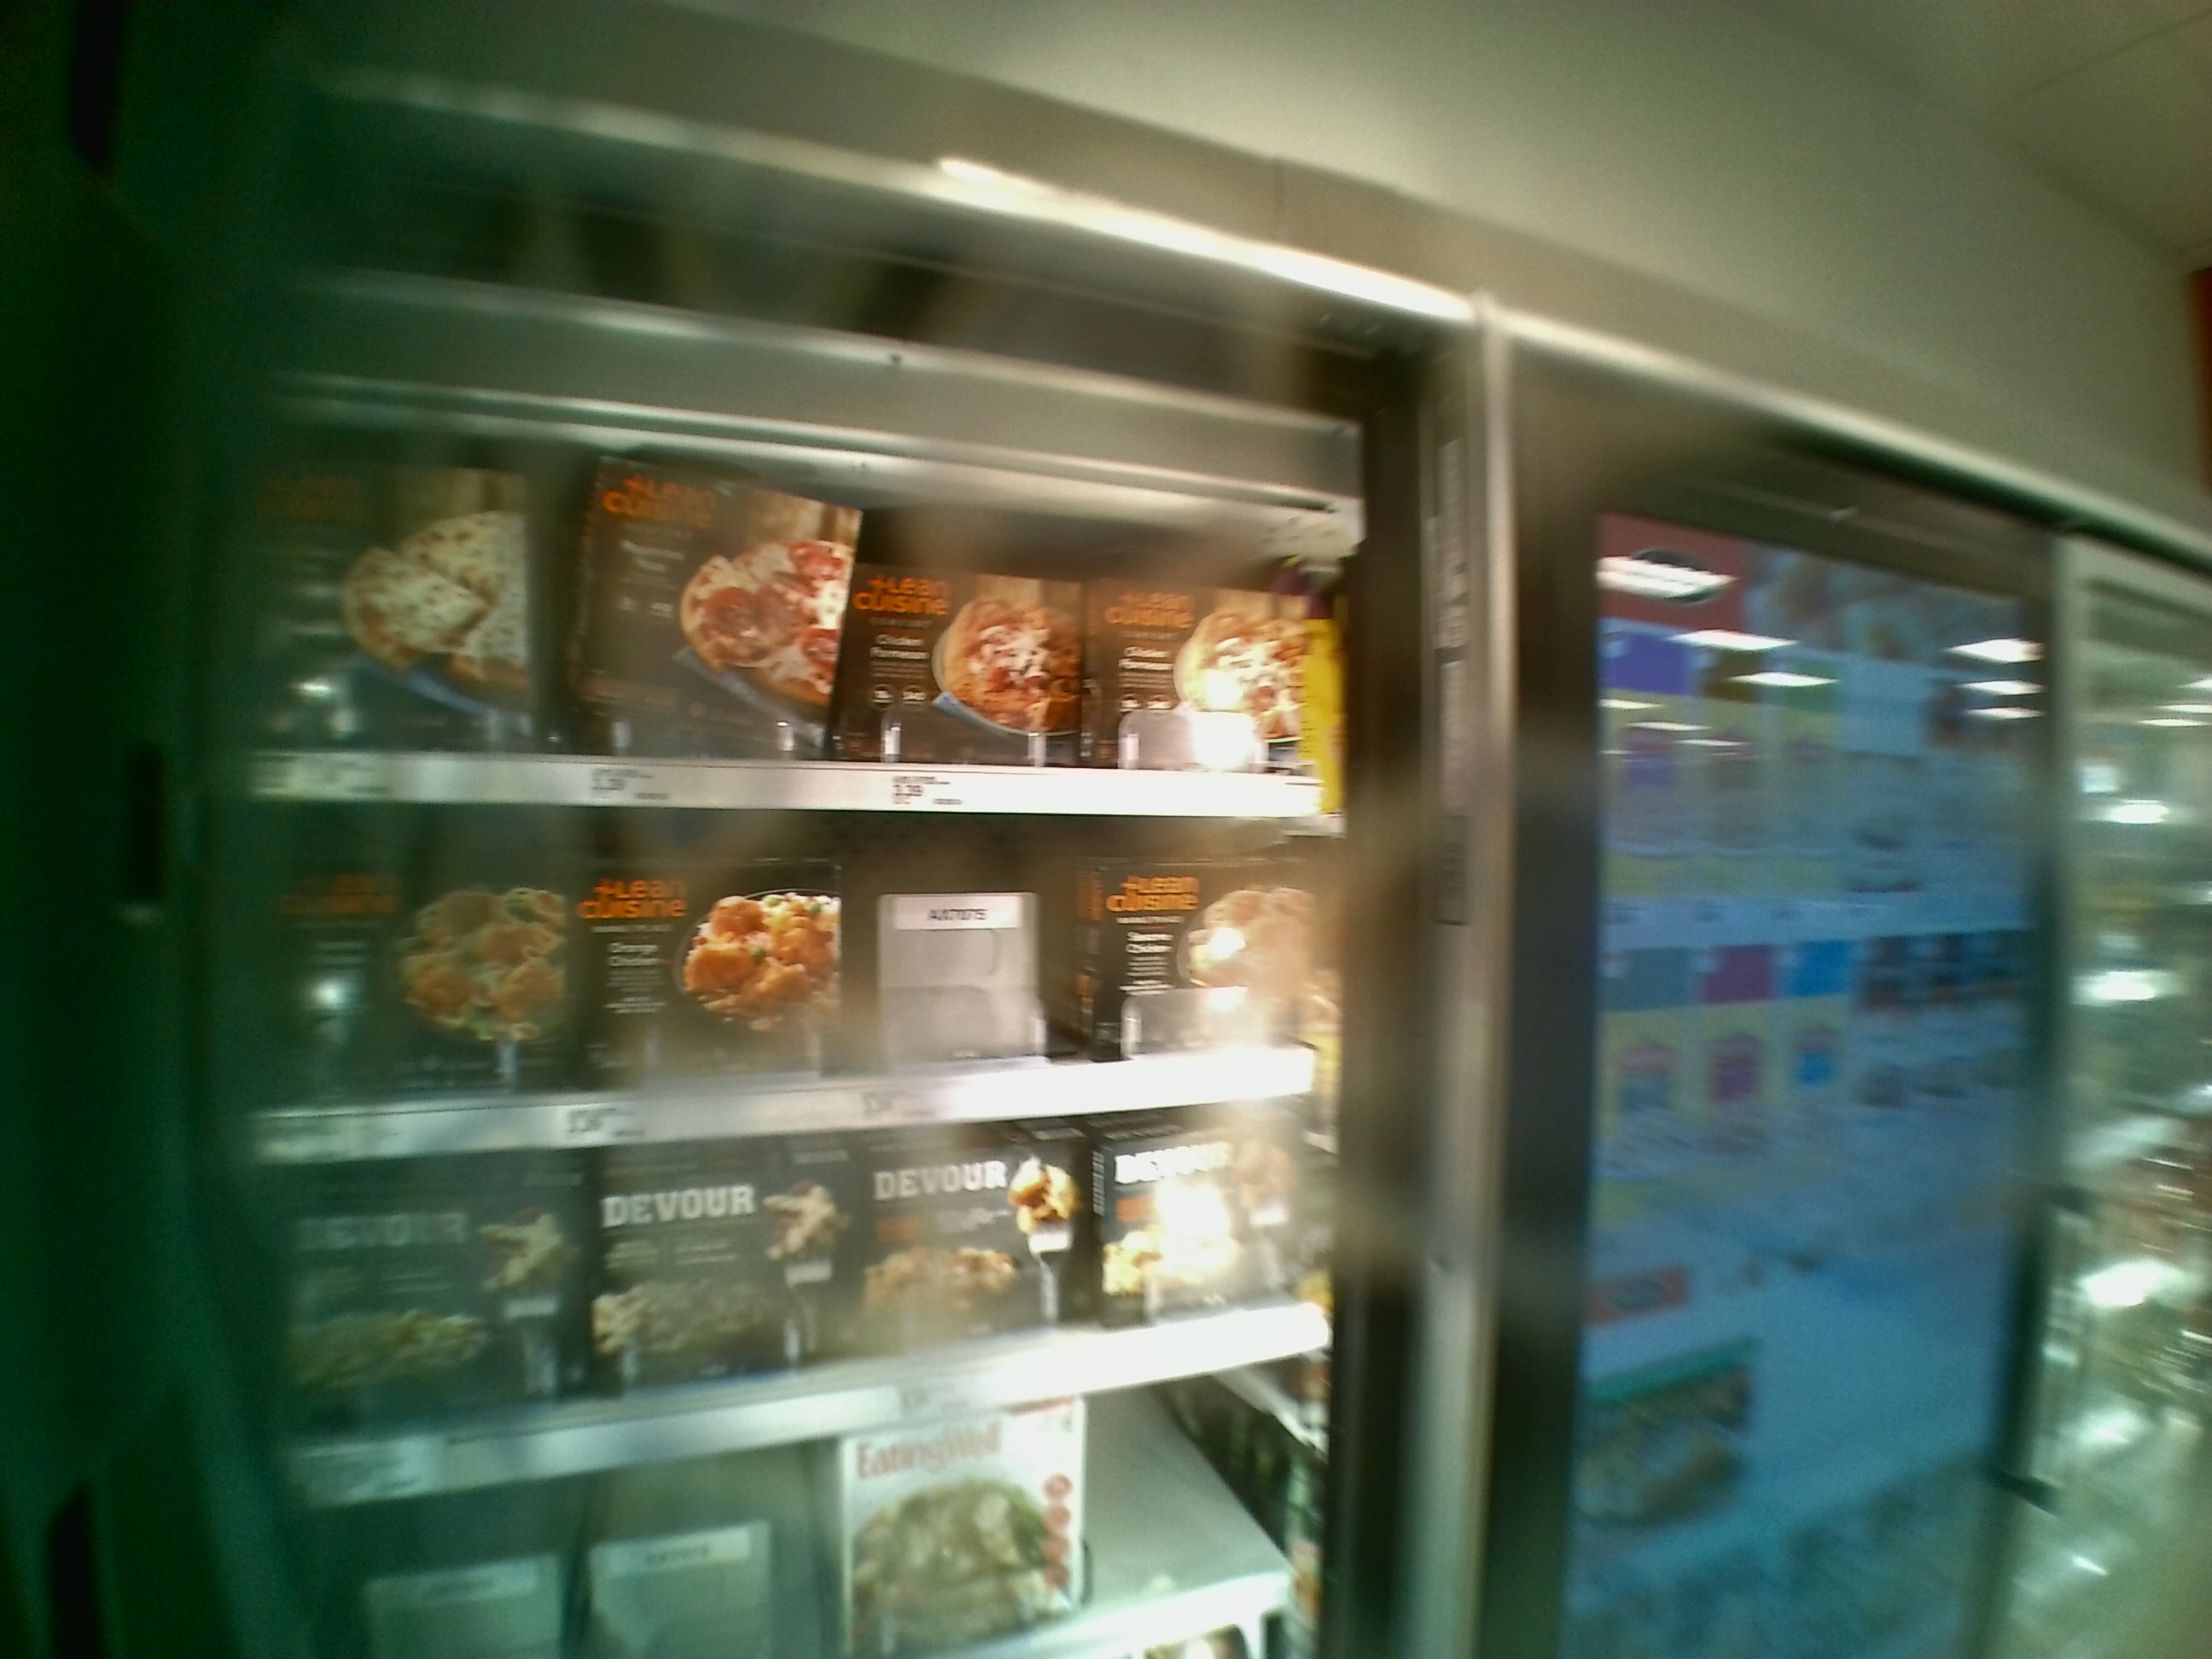shelf: (235, 380, 1345, 817), (225, 802, 1334, 1168)
